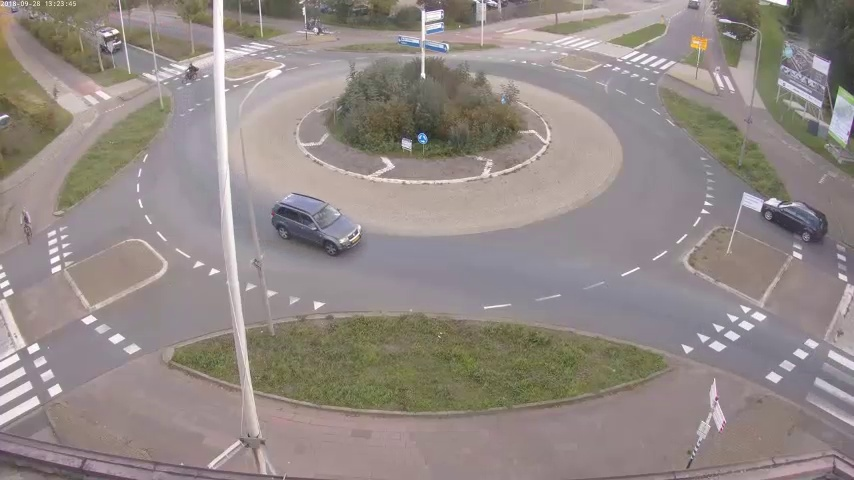bicycle: (18, 204, 40, 248), (181, 62, 202, 86)
car: (271, 191, 358, 256), (766, 196, 822, 245), (93, 23, 122, 56)
